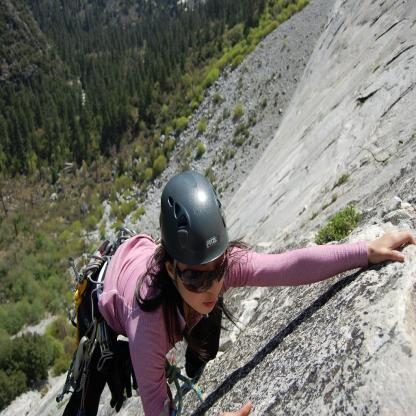Helmet: (157, 174, 229, 302)
